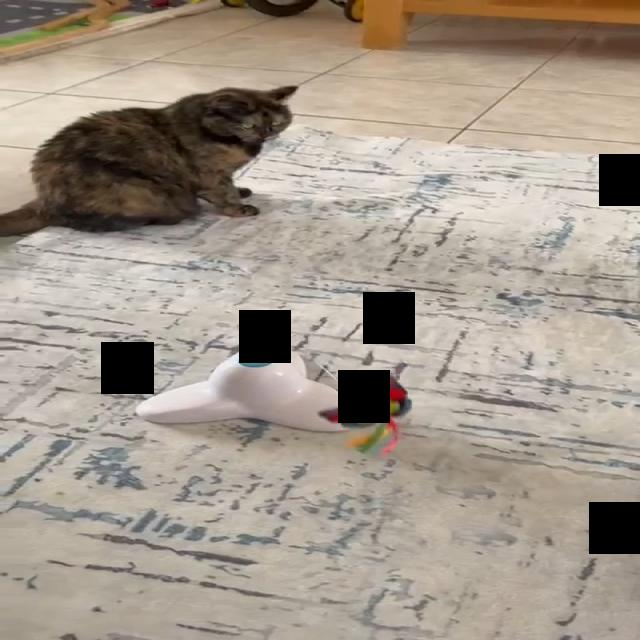authorized: (0, 84, 299, 237)
